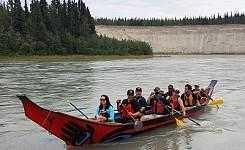kayak: (17, 95, 209, 147)
